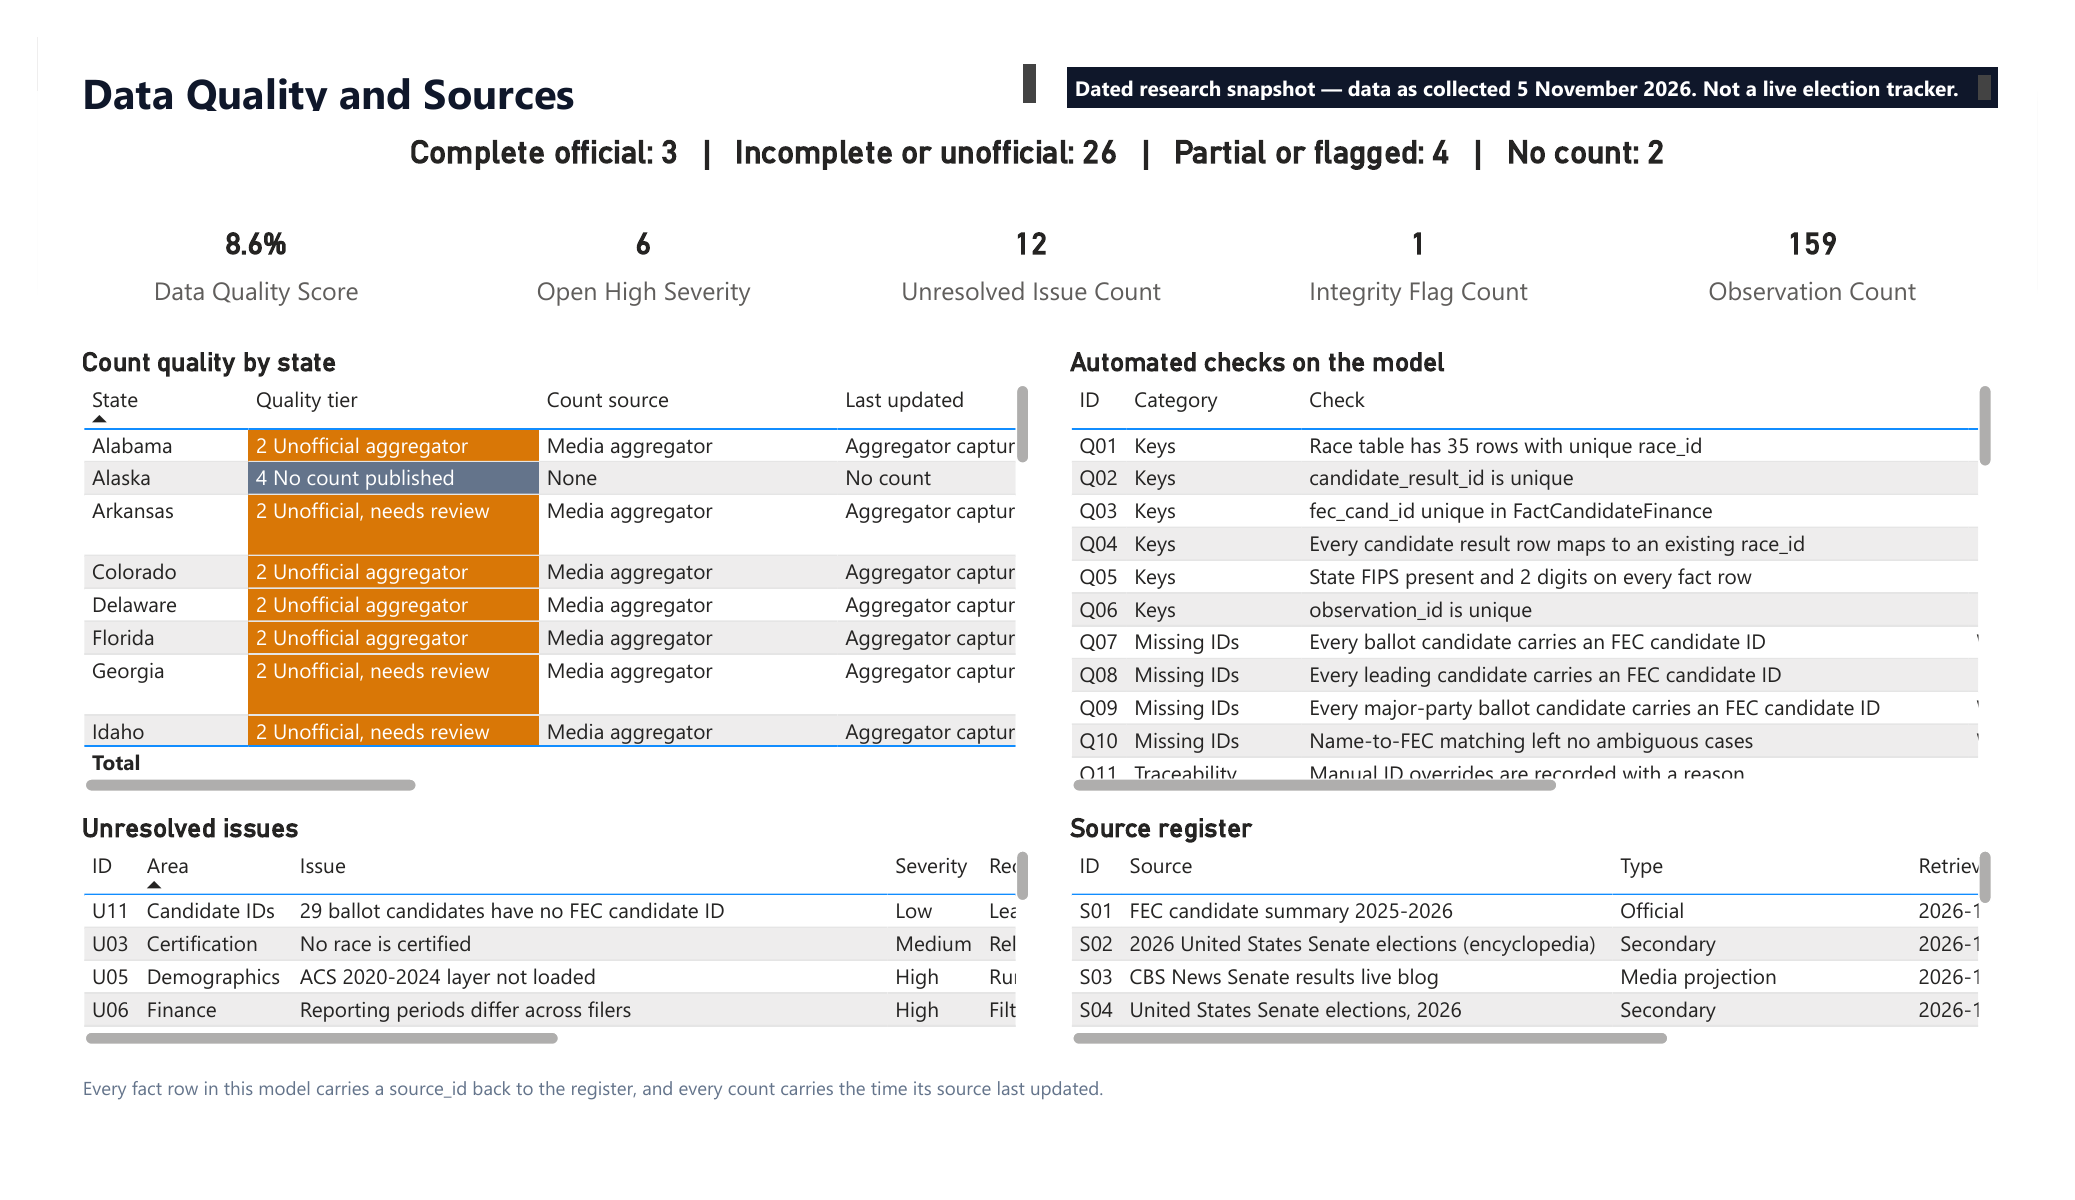

This screenshot's page, from the dashboard's own definition file:
{"tool":"powerbi","page":{"name":"Data Quality and Sources","canvas":[1280,720],"ordinal":6},"visuals":[{"type":"textbox","box":[24,12,620,40],"z":0},{"type":"card","fields":{"Values":["_Measures.Data Quality Banner"]},"box":[24,56,1232,34],"z":1000},{"type":"card","fields":{"Values":["_Measures.Data Quality Score"]},"box":[24,100,232,86],"z":2000},{"type":"card","fields":{"Values":["_Measures.Open High Severity"]},"box":[272,100,232,86],"z":3000},{"type":"card","fields":{"Values":["_Measures.Unresolved Issue Count"]},"box":[520,100,232,86],"z":4000},{"type":"card","fields":{"Values":["_Measures.Integrity Flag Count"]},"box":[768,100,232,86],"z":5000},{"type":"card","fields":{"Values":["_Measures.Observation Count"]},"box":[1016,100,240,86],"z":6000},{"type":"tableEx","title":"Count quality by state","fields":{"Values":["DimRace.state_name","RaceQualityFlags.quality_tier","RaceQualityFlags.count_source_tier","RaceQualityFlags.last_updated_display","RaceQualityFlags.exclusion_reason"]},"box":[24,198,616,290],"z":7000},{"type":"tableEx","title":"Automated checks on the model","fields":{"Values":["DataQualityChecks.check_id","DataQualityChecks.category","DataQualityChecks.check","DataQualityChecks.result","DataQualityChecks.severity","DataQualityChecks.recommended_resolution"]},"box":[656,198,600,290],"z":8000},{"type":"tableEx","title":"Unresolved issues","fields":{"Values":["UnresolvedIssues.issue_id","UnresolvedIssues.area","UnresolvedIssues.issue","UnresolvedIssues.severity","UnresolvedIssues.recommended_action"]},"box":[24,496,616,154],"z":9000},{"type":"tableEx","title":"Source register","fields":{"Values":["DimSource.source_id","DimSource.source_name","DimSource.source_type","DimSource.retrieved","DimSource.period_or_vintage"]},"box":[656,496,600,154],"z":10000},{"type":"textbox","box":[24,658,1232,48],"z":11000},{"type":"textbox","box":[658.6,18.6,596,26],"z":12000}]}

Visuals, with their boxes on the page's 1280x720 design canvas (x1, y1, x2, y2). These are canvas units, not pixel positions in the 2075x1200 screenshot, which may show the page scaled, cropped or inside an application window:
textbox: BBox(24, 12, 644, 52)
card - _Measures.Data Quality Banner: BBox(24, 56, 1256, 90)
card - _Measures.Data Quality Score: BBox(24, 100, 256, 186)
card - _Measures.Open High Severity: BBox(272, 100, 504, 186)
card - _Measures.Unresolved Issue Count: BBox(520, 100, 752, 186)
card - _Measures.Integrity Flag Count: BBox(768, 100, 1000, 186)
card - _Measures.Observation Count: BBox(1016, 100, 1256, 186)
"Count quality by state" tableEx: BBox(24, 198, 640, 488)
"Automated checks on the model" tableEx: BBox(656, 198, 1256, 488)
"Unresolved issues" tableEx: BBox(24, 496, 640, 650)
"Source register" tableEx: BBox(656, 496, 1256, 650)
textbox: BBox(24, 658, 1256, 706)
textbox: BBox(659, 19, 1255, 45)
